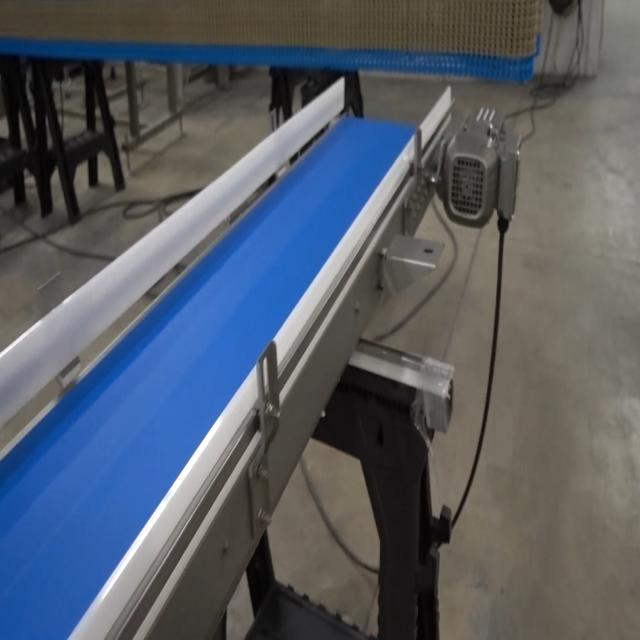Convoyeur: (0, 78, 463, 640)
